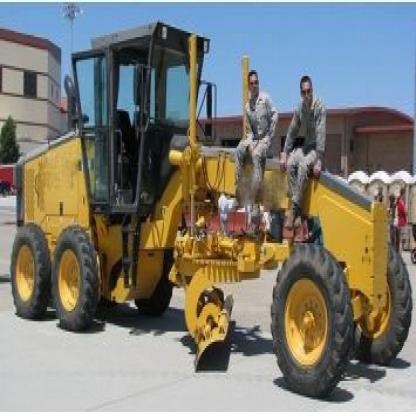bull_dozer/loader/grader: (3, 14, 415, 390)
